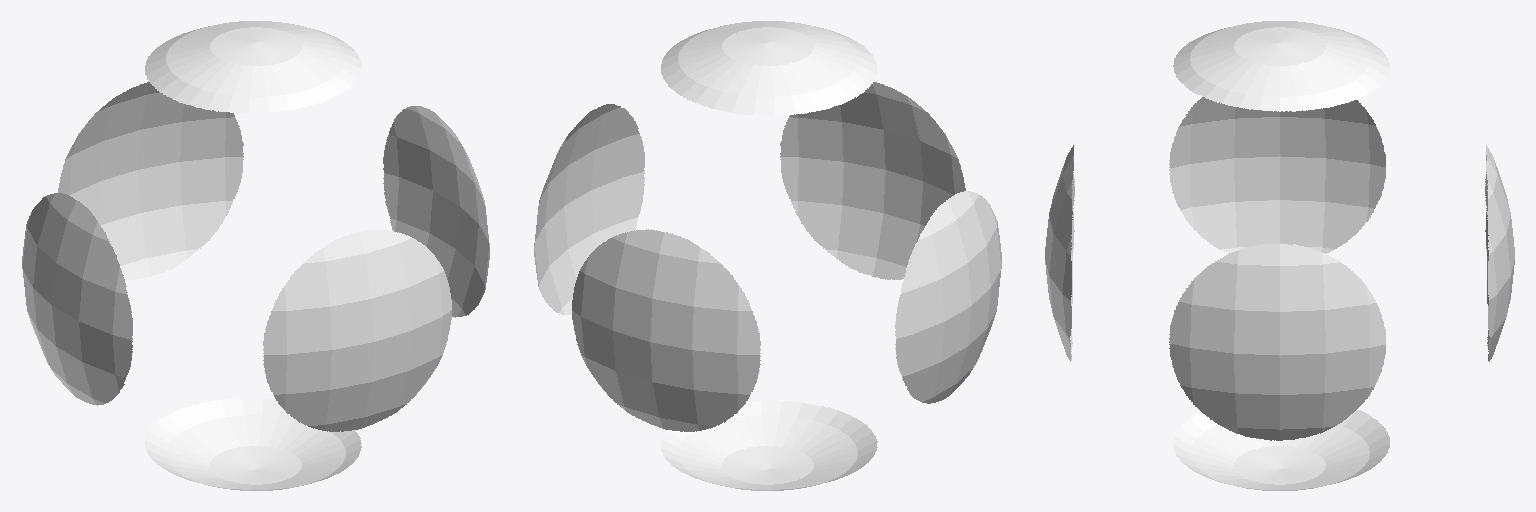
3 renders of one model, left to right at view 1: azimuth 30°, elevation 25°; view 2: azimuth 150°, elevation 25°; view 3: azimuth 270°, elevation 25°, orthographic.
Parts seen in each view (by area): view 1: Sphere; view 2: Sphere; view 3: Sphere.
Boxes of the visible parts, x1,y1,x2,y2 form: Sphere: [22, 21, 489, 490]; Sphere: [534, 21, 1001, 490]; Sphere: [1045, 21, 1514, 490].
Size of the model in its own units: 16 by 16 by 16.
1 materials, 1 textured.